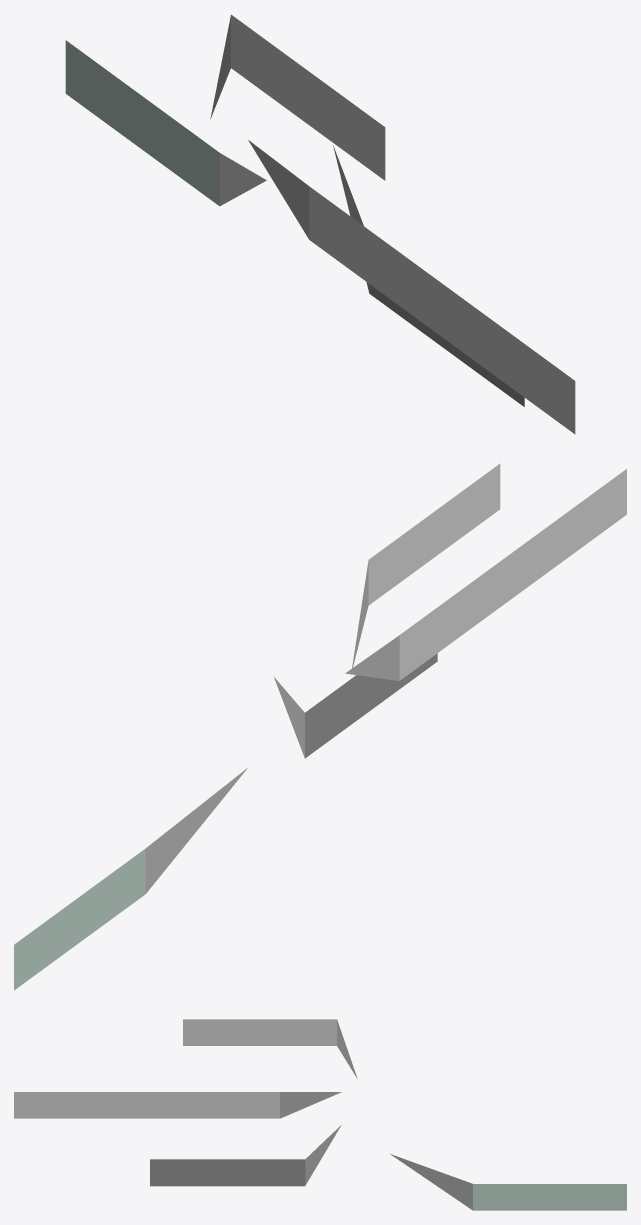
File: ojo_partes.fbx
3 renders of one model, top to bottom at view 1: azimuth 30°, elevation 25°; view 2: azimuth 150°, elevation 25°; view 3: azimuth 270°, elevation 25°, orthographic. The views are drawn at different scales.
Parts seen in each view (by area): view 1: polySurface107_ncl1_1; view 2: polySurface107_ncl1_1; view 3: polySurface107_ncl1_1.
Part boxes in pixels (x1,y1,x2,y2): polySurface107_ncl1_1: (65, 14, 575, 434); polySurface107_ncl1_1: (14, 463, 626, 990); polySurface107_ncl1_1: (14, 1019, 626, 1210).
Bounding box in the file's own units: 46.65 × 115 × 397.
